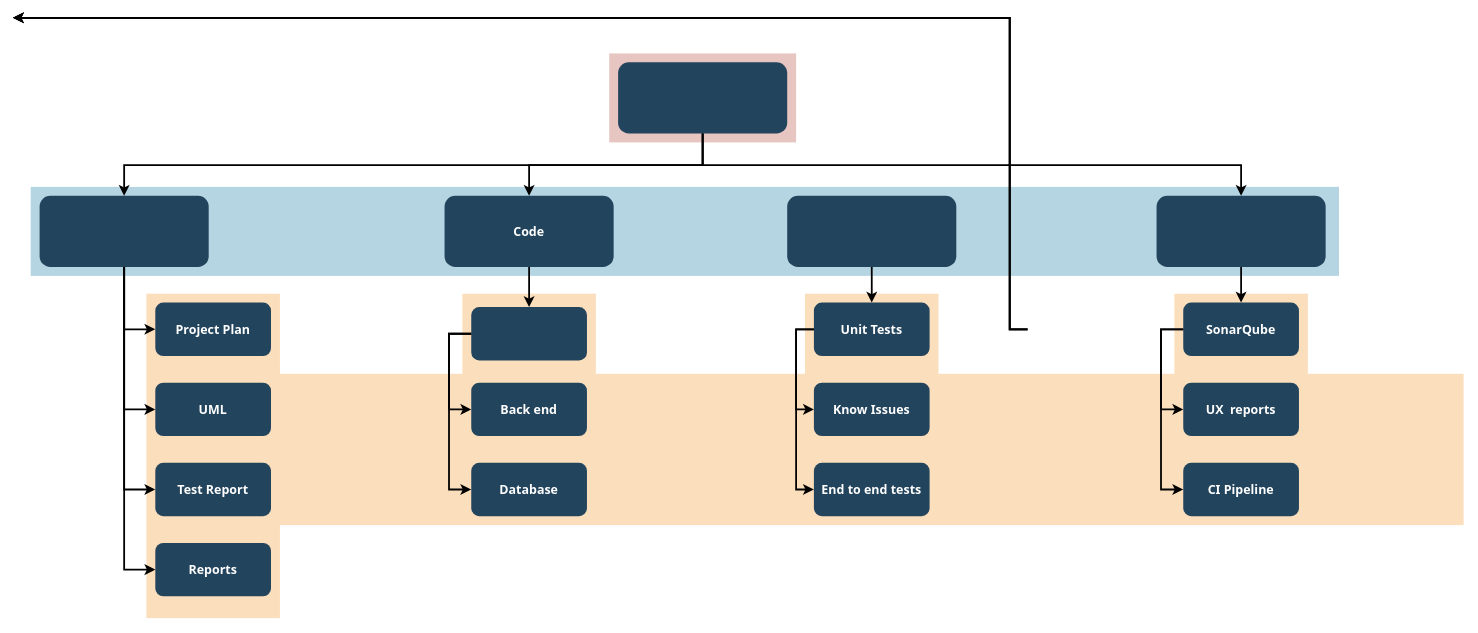
Image size: 1478x633. Some labels were removed from this diagram. The box of each missing label's shape, as (x1, y1, x2, y2) in pixels:
Documentation: (39, 195, 208, 267)
End Product of Project: (618, 62, 787, 133)
Front end: (471, 307, 587, 360)
Quality: (1156, 195, 1325, 267)
Tests: (787, 195, 956, 267)
